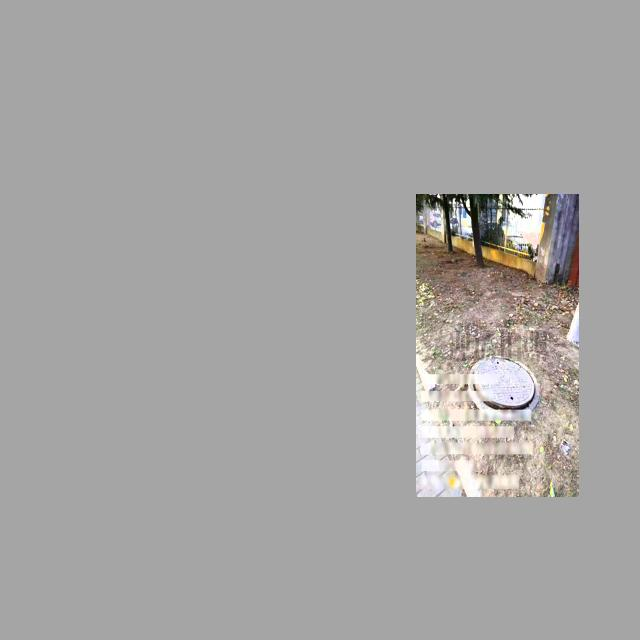uncovered: (468, 355, 539, 419)
